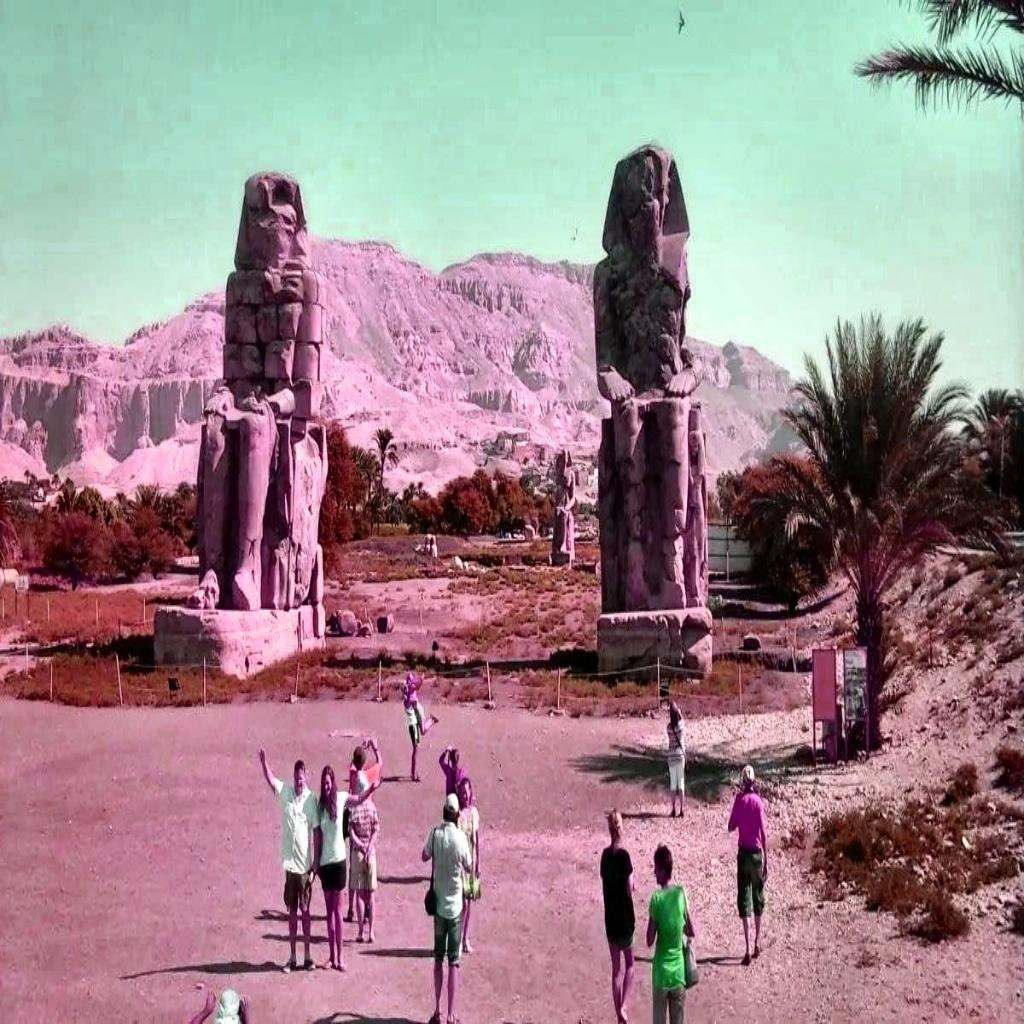Colossoi of Memnon: (150, 166, 338, 659), (590, 138, 716, 680)
